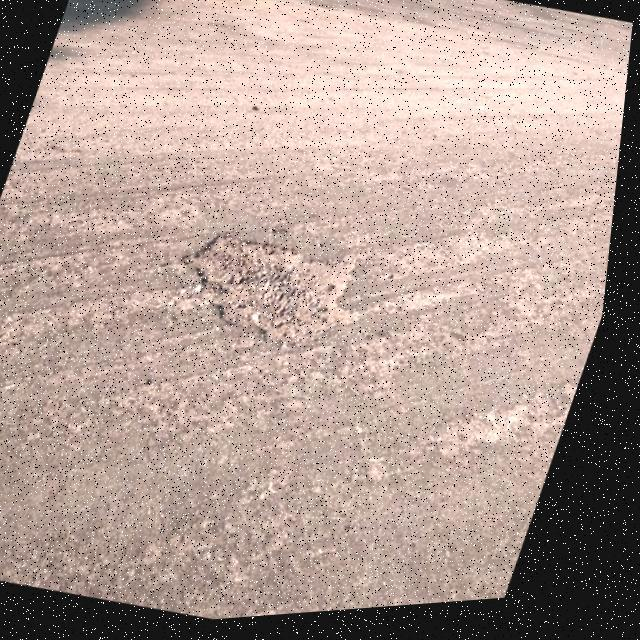pothole: (158, 206, 400, 381)
